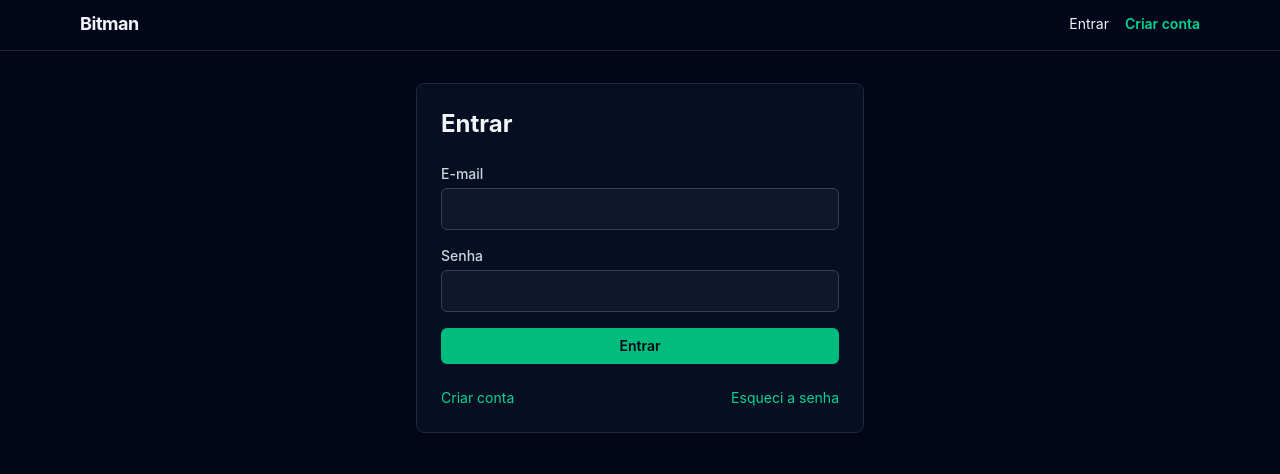
Test: LoginPage › mostra o erro de credenciais no campo de e-mail
This screenshot has width=1280, height=474.
In the field labelled "E-mail": (640,209) [441, 188, 839, 230], type "ada@example.com"
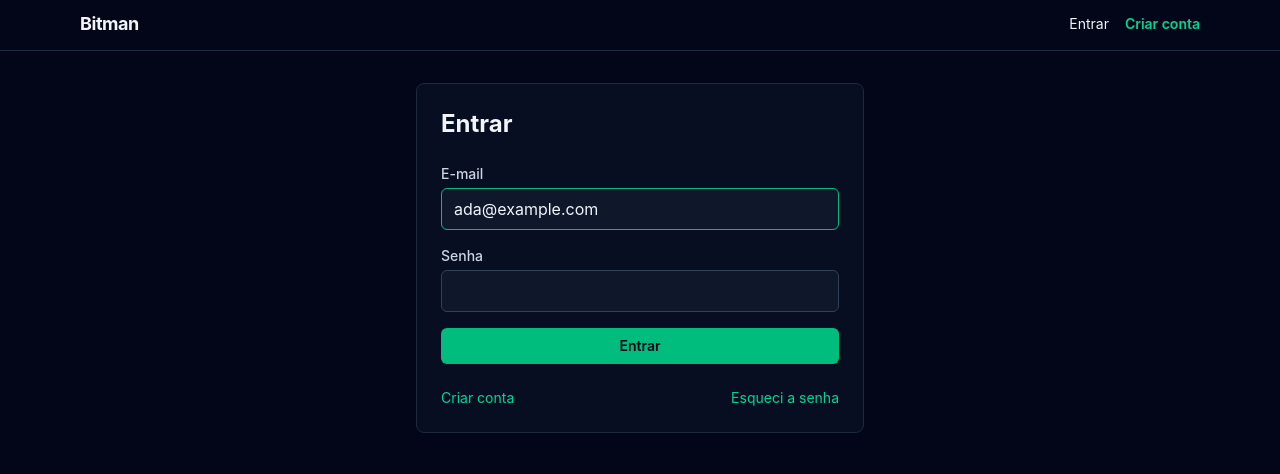
In the password field labelled "Senha": (640,291) [441, 270, 839, 312], type "errada"
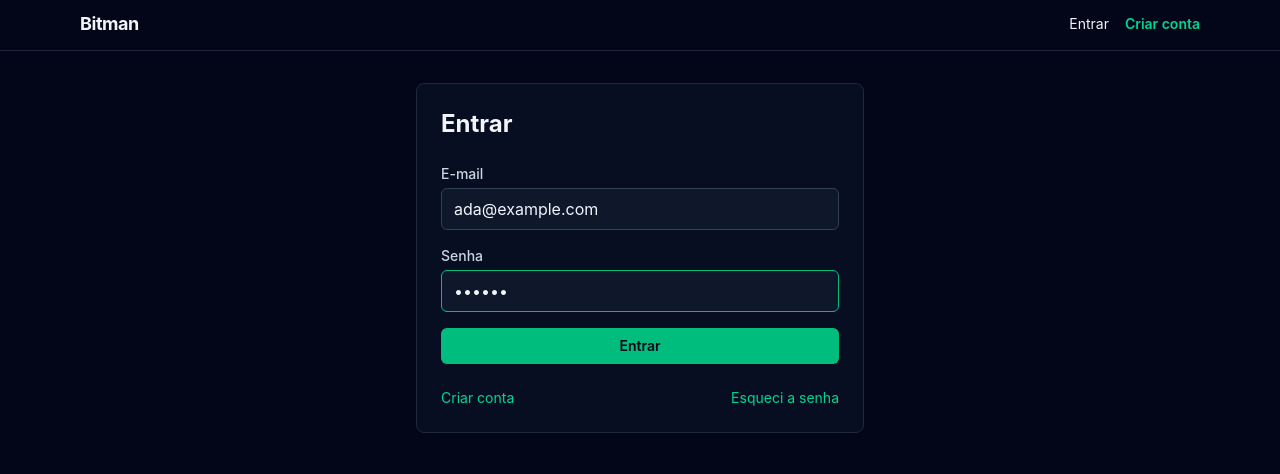
Click the button "Entrar": (640,346) [441, 328, 839, 364]
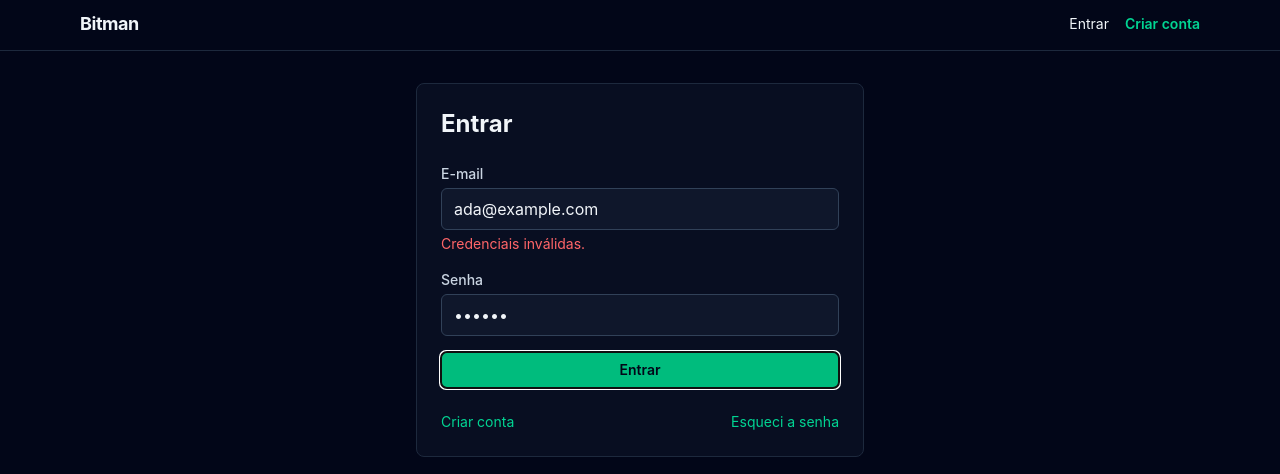
Expected: the text "Credenciais inválidas." is shown, [441, 235, 585, 252]
